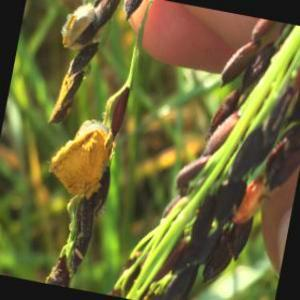Leaf_Scald: (51, 117, 114, 204)
